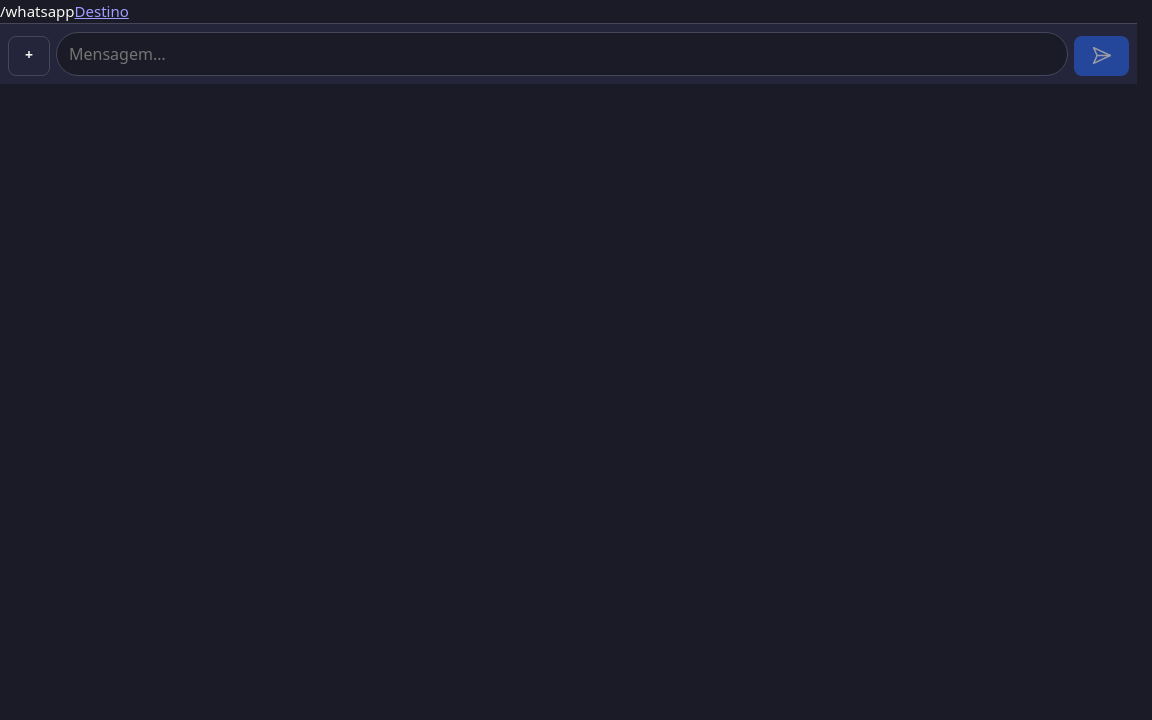
Test case: link aguarda Guardar real; Cancelar conserva texto; nenhum envio
This screenshot has width=1152, height=720.
Type "rascunho" into the text box named "Responder ao cliente" at point(562, 54), box [56,32,1068,76]
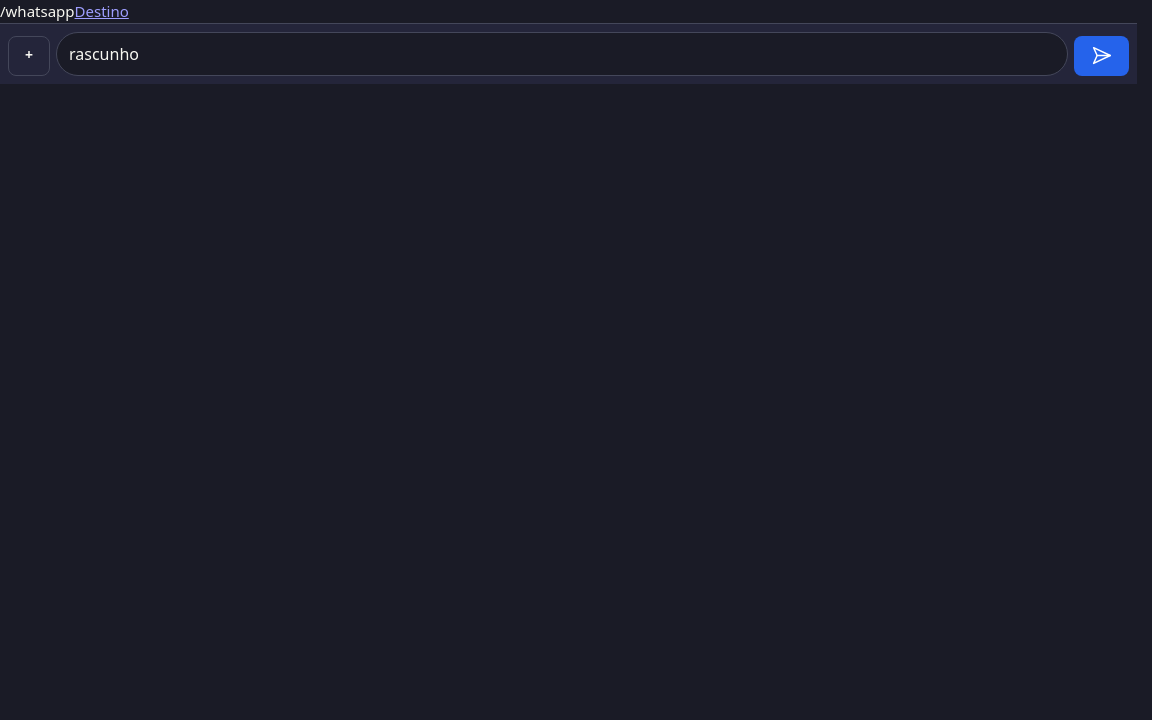
Click the link "Destino" at point(102, 11), box [74,1,129,21]
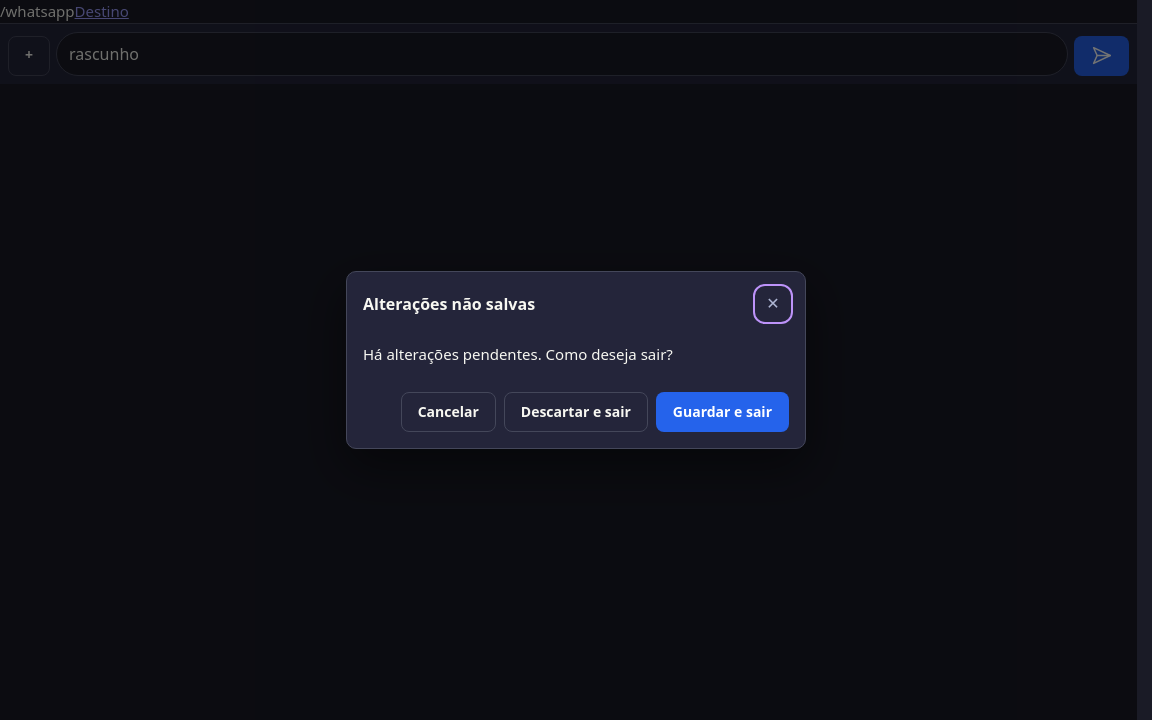
Expected: the text named "rota" reads "/whatsapp", [0,1,74,21]
Click the button "Cancelar" at point(448, 412), box [401,392,496,432]
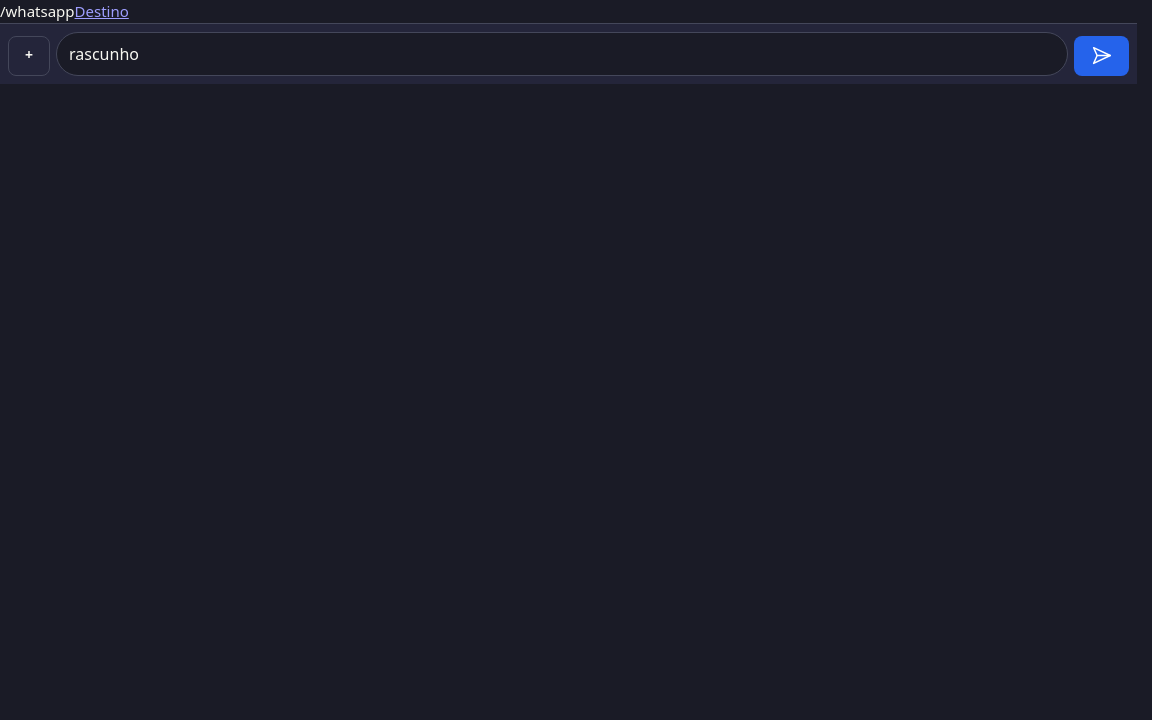
Click the link "Destino" at point(102, 11), box [74,1,129,21]
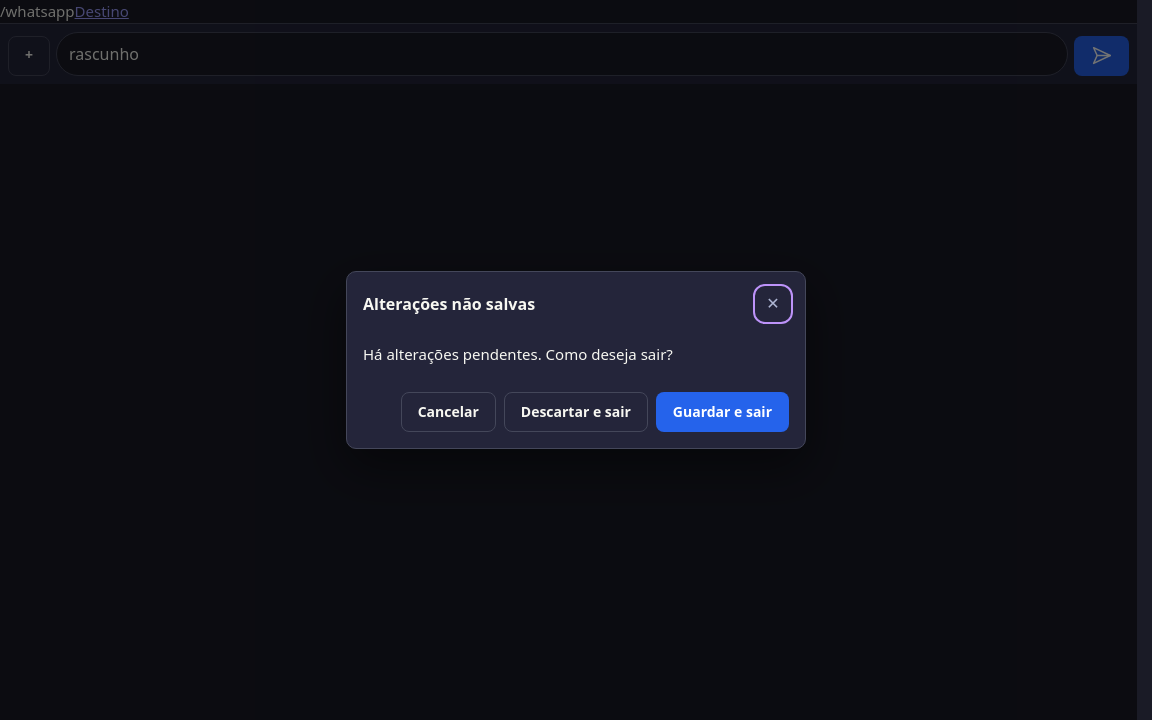
Click the button "Guardar e sair" at point(722, 412), box [656,392,789,432]
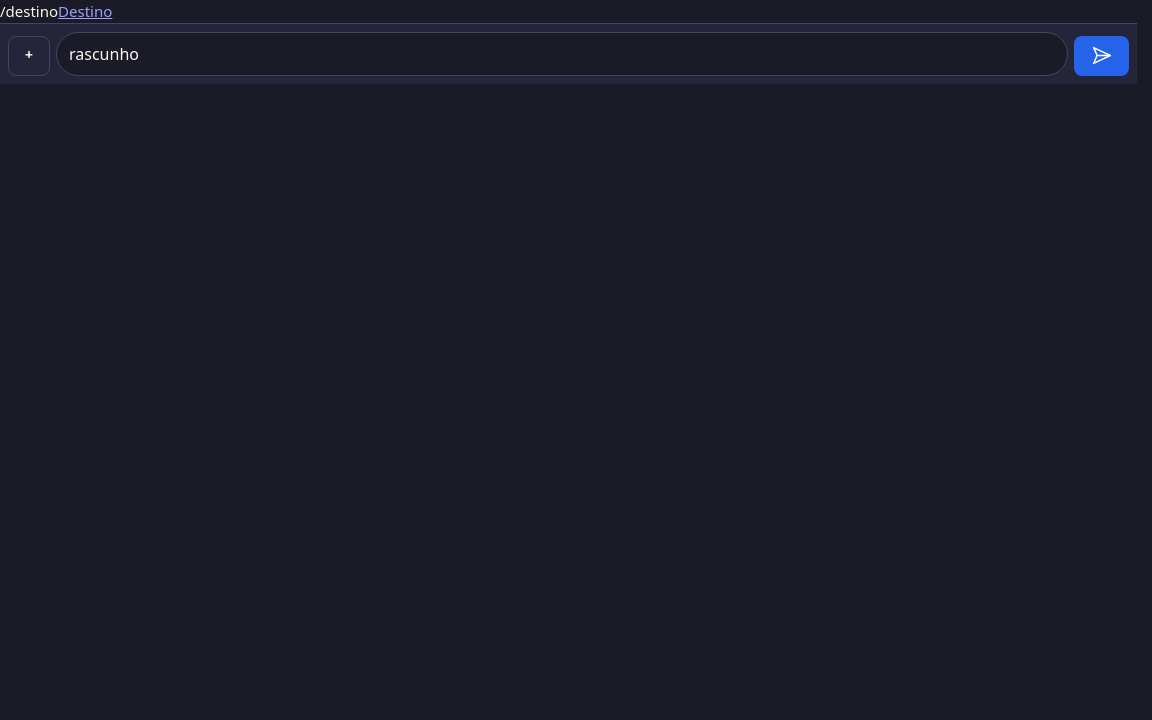
Result: the text named "rota" reads "/destino" at [0,1,58,21]
